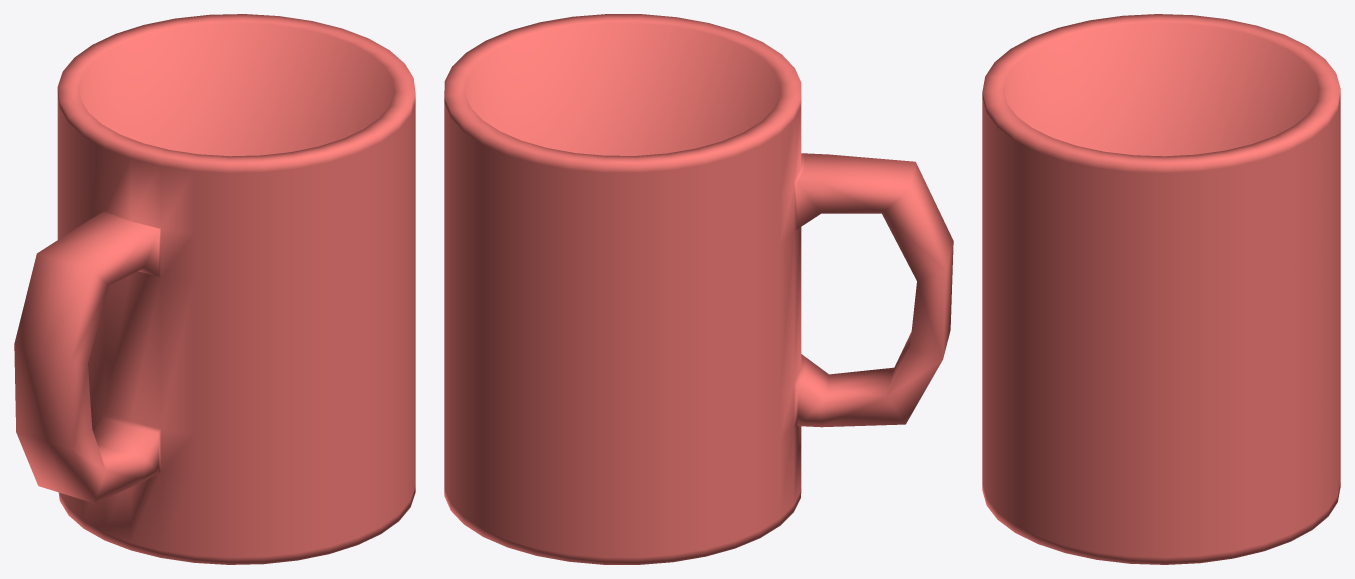
File: coffee_mug_1.dae
3 views of the same model, side by side, from view 1: azimuth 30°, elevation 25°; view 2: azimuth 150°, elevation 25°; view 3: azimuth 270°, elevation 25° (orthographic).
Visible parts, largest first — view 1: cooffe_mug; view 2: cooffe_mug; view 3: cooffe_mug.
Boxes of the visible parts, left/top/right/bottom form: cooffe_mug: left=14, top=14, right=415, bottom=564; cooffe_mug: left=444, top=14, right=953, bottom=564; cooffe_mug: left=982, top=14, right=1340, bottom=564.
Bounding box in the file's own units: 0.103 × 0.092 × 0.0747.
